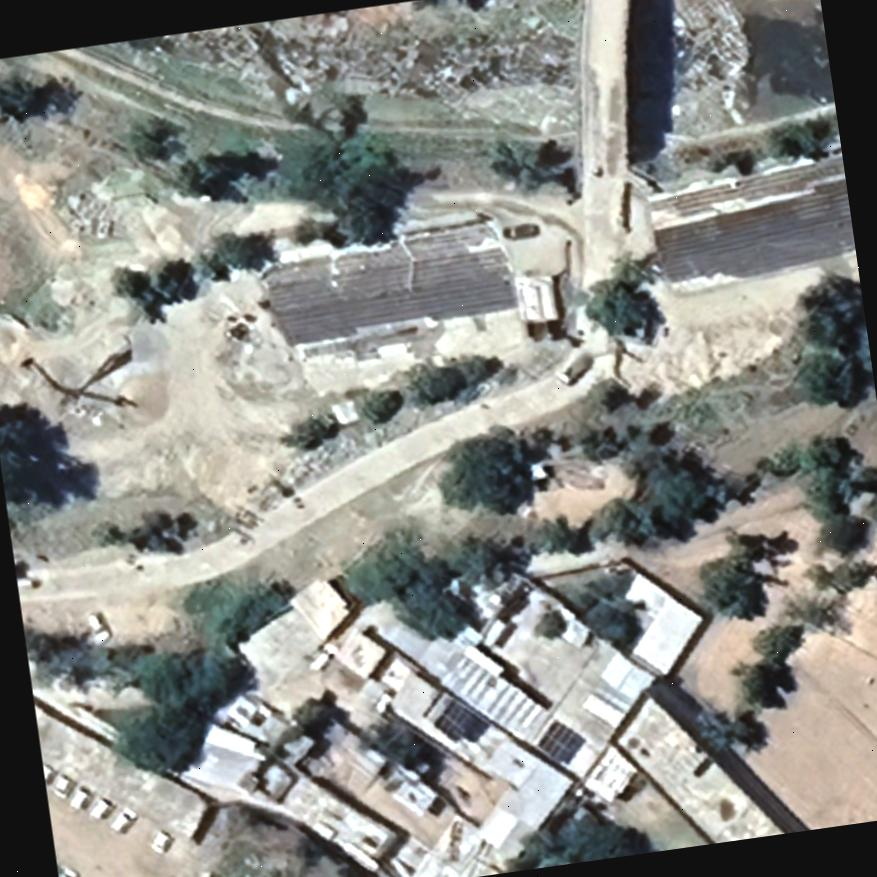Solarpanel: (532, 718, 586, 766), (430, 697, 481, 746)
